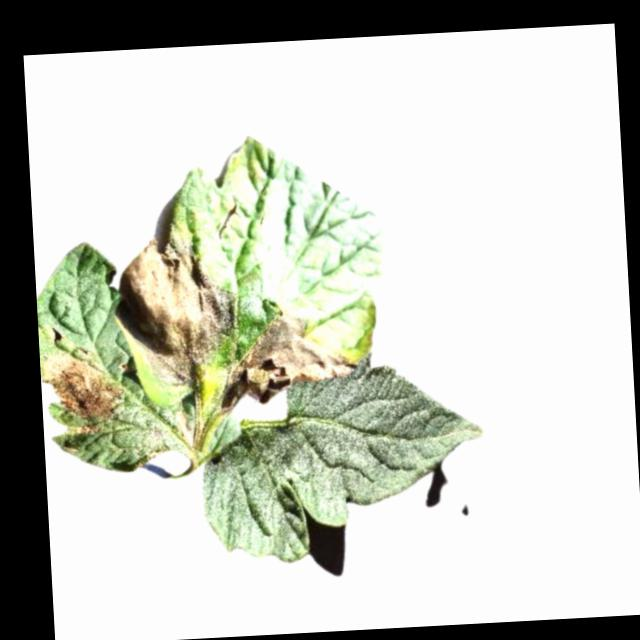Late_blight: (111, 221, 245, 394), (213, 305, 361, 414), (39, 345, 128, 424), (174, 406, 197, 449), (65, 421, 106, 435)
healthy: (196, 367, 494, 567)
